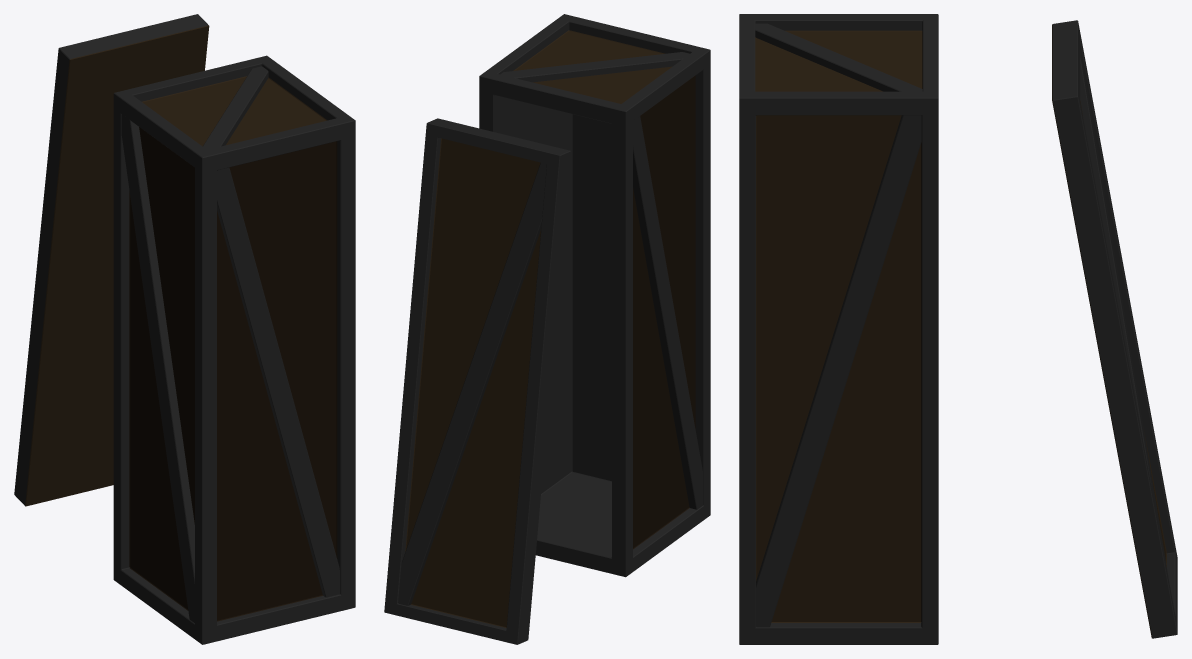
File: TallBox_Open.fbx
3 renders of one model, left to right at view 1: azimuth 30°, elevation 25°; view 2: azimuth 150°, elevation 25°; view 3: azimuth 270°, elevation 25°, orthographic. The views are drawn at different scales.
Parts seen in each view (by area): view 1: Tall_Box_Open, Tall_Wood; view 2: Tall_Box_Open, Tall_Wood; view 3: Tall_Box_Open, Tall_Wood.
Part boxes in pixels (x1,y1,x2,y2): Tall_Box_Open: (113, 55, 355, 644); Tall_Wood: (14, 14, 209, 506); Tall_Box_Open: (479, 14, 710, 577); Tall_Wood: (384, 118, 570, 644); Tall_Box_Open: (739, 14, 938, 644); Tall_Wood: (1052, 20, 1177, 638).
Size of the model in its own units: 44.03 by 133 by 96.87.
